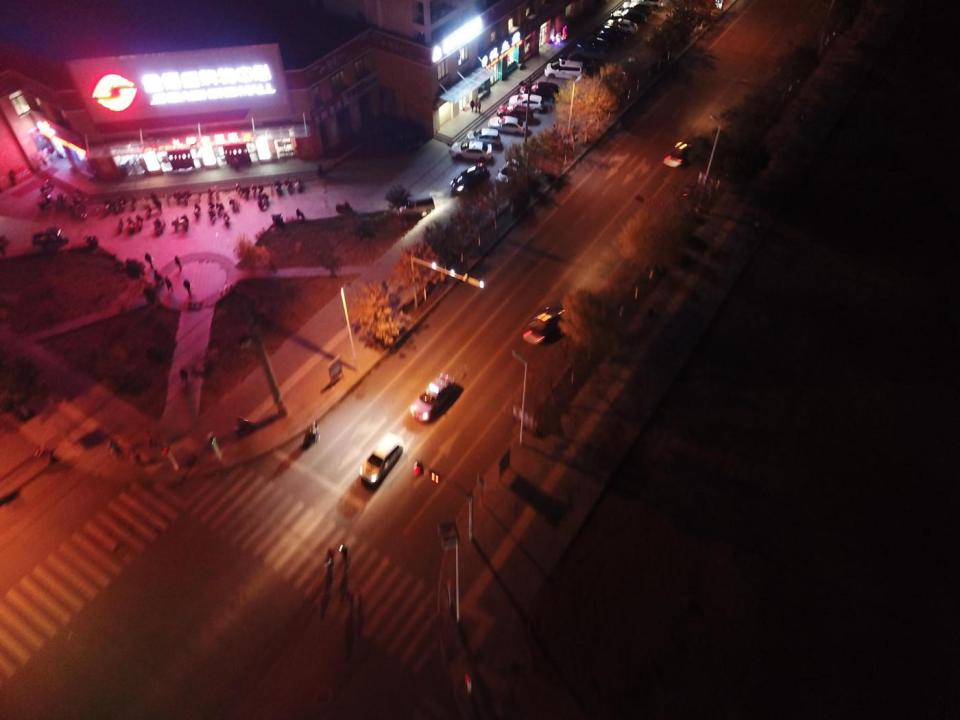car: (410, 372, 454, 423), (361, 435, 404, 487), (368, 116, 424, 151), (522, 302, 567, 344), (450, 162, 490, 194), (451, 140, 492, 160), (544, 59, 583, 80), (496, 158, 522, 188), (663, 141, 693, 167), (488, 116, 528, 135), (509, 93, 544, 113), (496, 104, 533, 122), (520, 82, 560, 98), (466, 128, 501, 146), (560, 52, 594, 70), (612, 9, 646, 25), (606, 18, 638, 34), (576, 38, 608, 52), (596, 29, 626, 43), (623, 4, 652, 17), (622, 1, 652, 12), (634, 0, 662, 10)
van: (392, 191, 435, 214)
